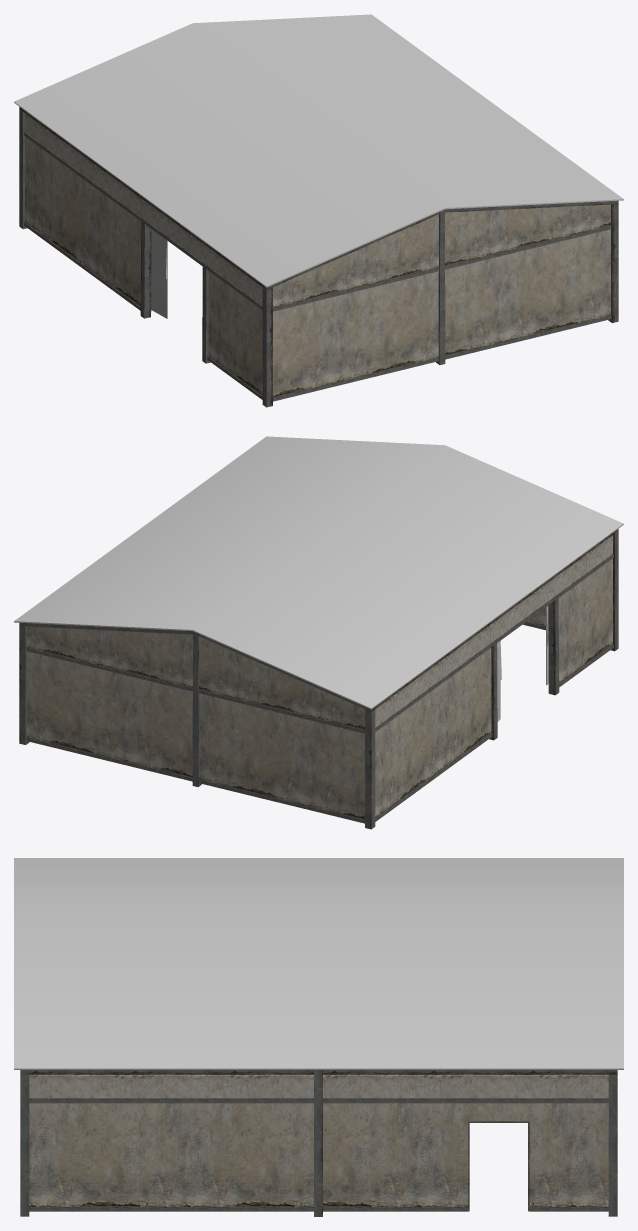
File: StuccoBuildingB.FBX
3 views of the same model, one above another, from view 1: azimuth 30°, elevation 25°; view 2: azimuth 150°, elevation 25°; view 3: azimuth 270°, elevation 25° (orthographic). The views are drawn at different scales.
Visible parts, largest first — view 1: StuccoBuildingB; view 2: StuccoBuildingB; view 3: StuccoBuildingB.
Boxes of the visible parts, bbox=[...] form: StuccoBuildingB: bbox=[14, 14, 623, 407]; StuccoBuildingB: bbox=[14, 436, 623, 829]; StuccoBuildingB: bbox=[14, 858, 623, 1216].
Bounding box in the file's own units: 1248 × 529 × 1526.
